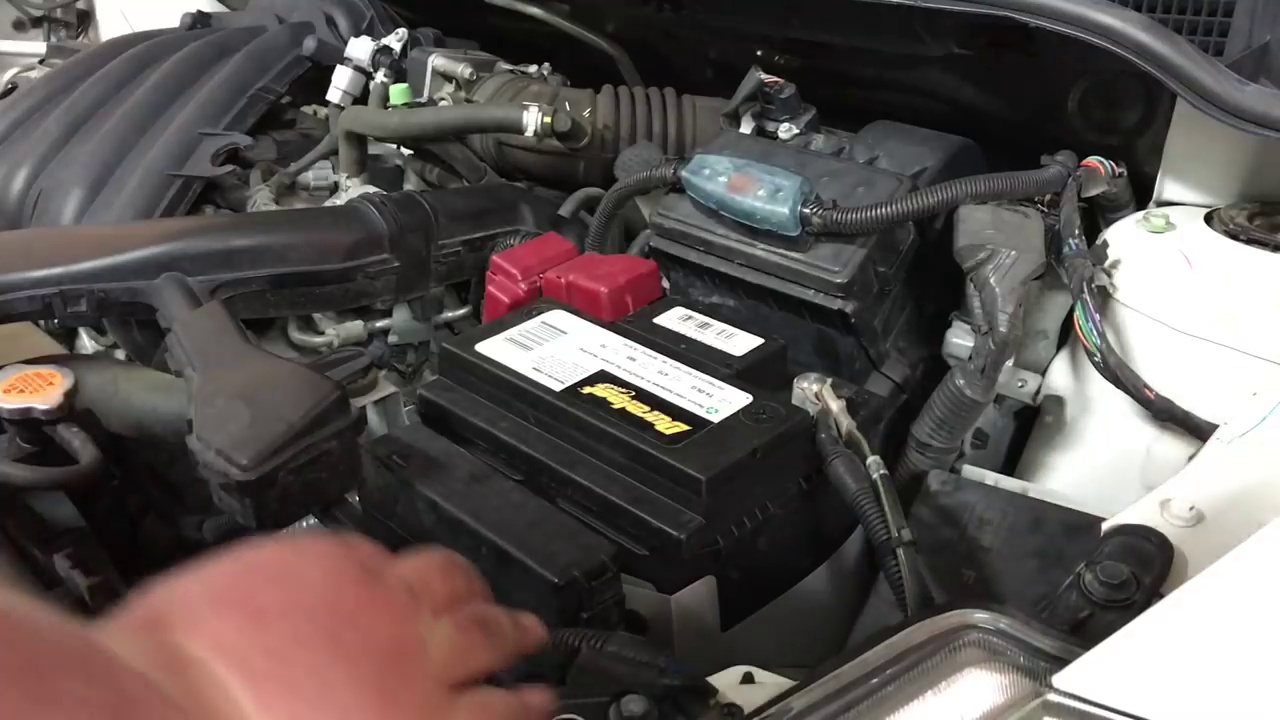battery: (453, 295, 855, 478)
neg_connected: (778, 350, 867, 477)
pos_connected: (462, 238, 677, 342)
